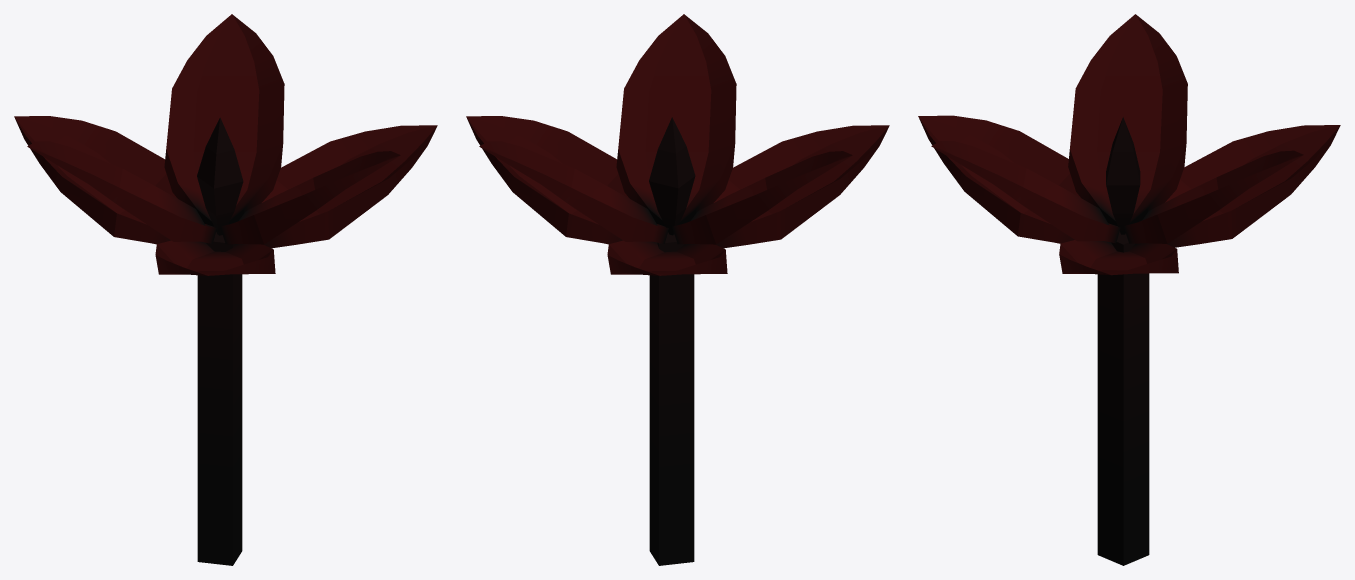
Rendered from SM_WildFlower_Var1.fbx.
3 views of the same model, side by side, from view 1: azimuth 30°, elevation 25°; view 2: azimuth 150°, elevation 25°; view 3: azimuth 270°, elevation 25° (orthographic).
Parts seen in each view (by area): view 1: SM_WildFlower_Var1; view 2: SM_WildFlower_Var1; view 3: SM_WildFlower_Var1.
Boxes of the visible parts, bbox=[...] form: SM_WildFlower_Var1: bbox=[14, 14, 437, 565]; SM_WildFlower_Var1: bbox=[466, 14, 889, 565]; SM_WildFlower_Var1: bbox=[918, 14, 1340, 565].
Bounding box in the file's own units: 47.65 × 51.51 × 43.85.
